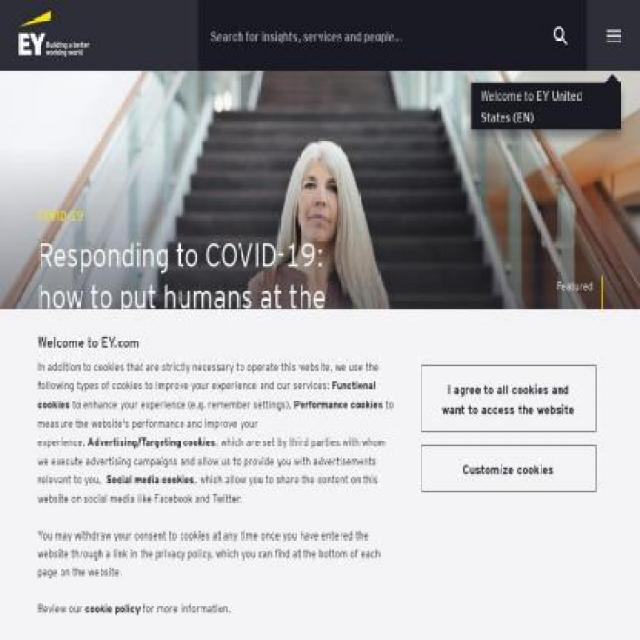button: (209, 0, 629, 29), (420, 365, 597, 432), (420, 445, 597, 492), (471, 83, 620, 131), (533, 0, 587, 71), (586, 0, 639, 72), (182, 626, 446, 640), (19, 11, 90, 57), (85, 600, 140, 617)
field: (198, 0, 534, 71)
